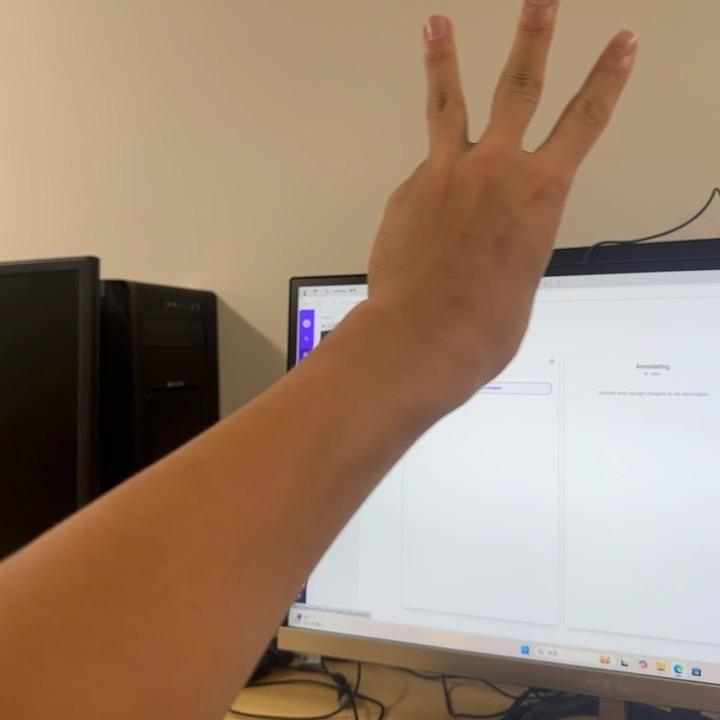without_gloves: (266, 0, 682, 397)
